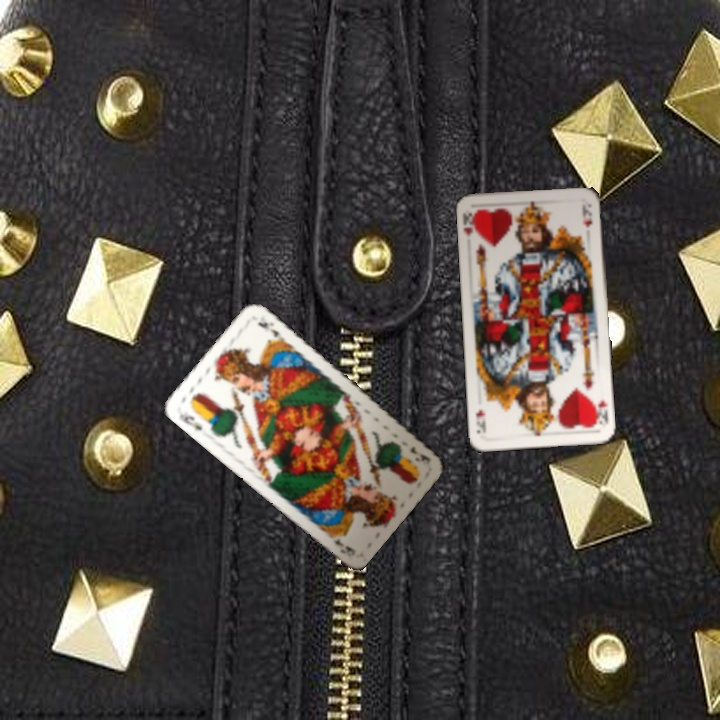EK: (175, 406, 205, 433), (406, 442, 433, 466)
HK: (459, 206, 480, 240), (590, 396, 611, 427)
